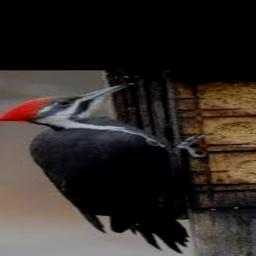Woodpecker: (0, 82, 209, 253)
